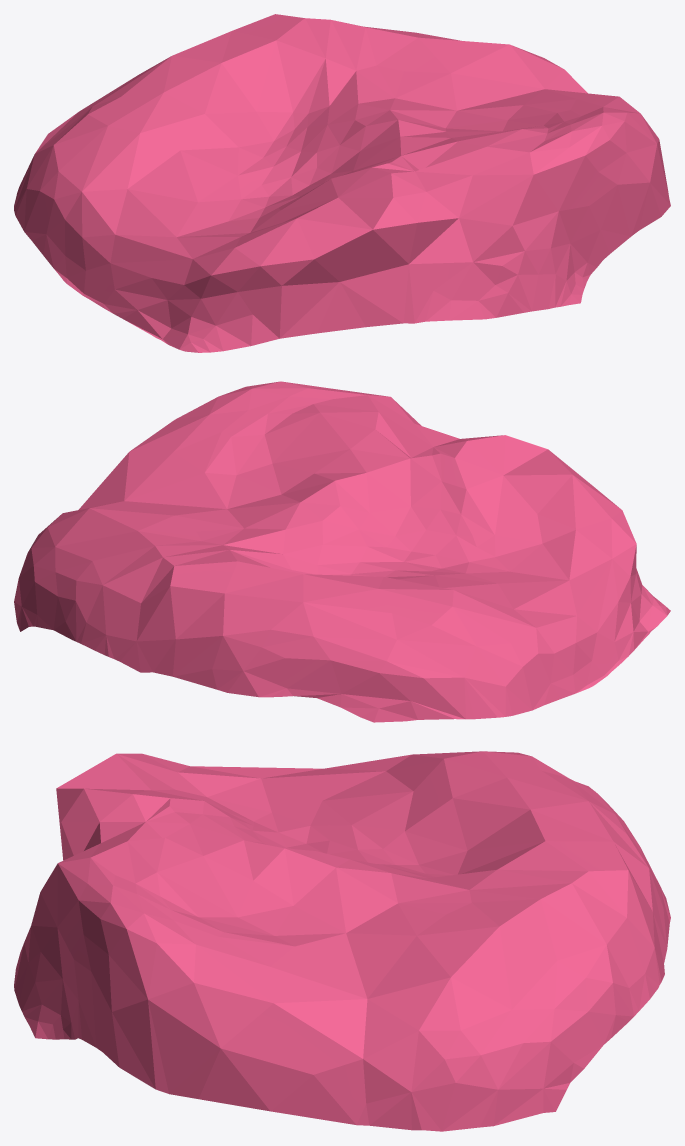
Rendered from ground_004.fbx.
3 renders of one model, top to bottom at view 1: azimuth 30°, elevation 25°; view 2: azimuth 150°, elevation 25°; view 3: azimuth 270°, elevation 25°, orthographic. The views are drawn at different scales.
Parts seen in each view (by area): view 1: ground.004; view 2: ground.004; view 3: ground.004.
Part boxes in pixels (x1,y1,x2,y2): ground.004: (14,14,670,352); ground.004: (14,381,670,722); ground.004: (14,751,670,1131).
Size of the model in its own units: 2544 by 623 by 2226.
1 material, 1 textured.
